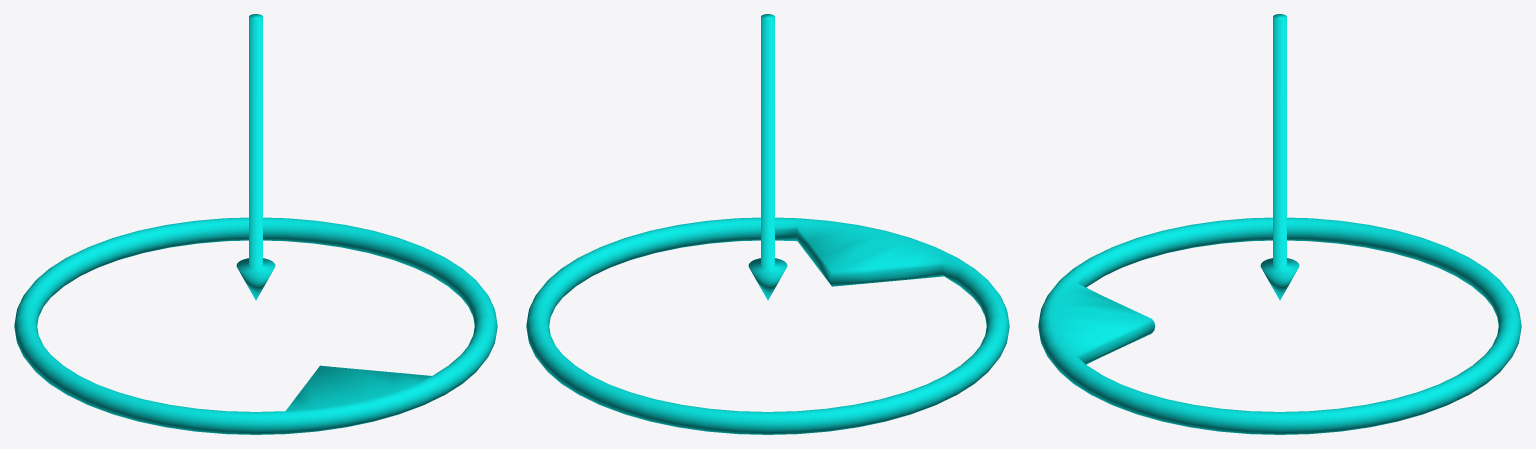
3 views of the same model, side by side, from view 1: azimuth 30°, elevation 25°; view 2: azimuth 150°, elevation 25°; view 3: azimuth 270°, elevation 25° (orthographic).
Parts seen in each view (by area): view 1: Torus, Cone; view 2: Torus, Cone; view 3: Torus, Cone.
Part boxes in pixels (x1,y1,x2,y2): Torus: (14,217,497,434); Cone: (236,14,275,300); Torus: (526,217,1009,434); Cone: (748,14,787,300); Torus: (1038,217,1521,434); Cone: (1260,14,1299,300).
Size of the model in its own units: 2.1 by 1.53 by 2.1.
